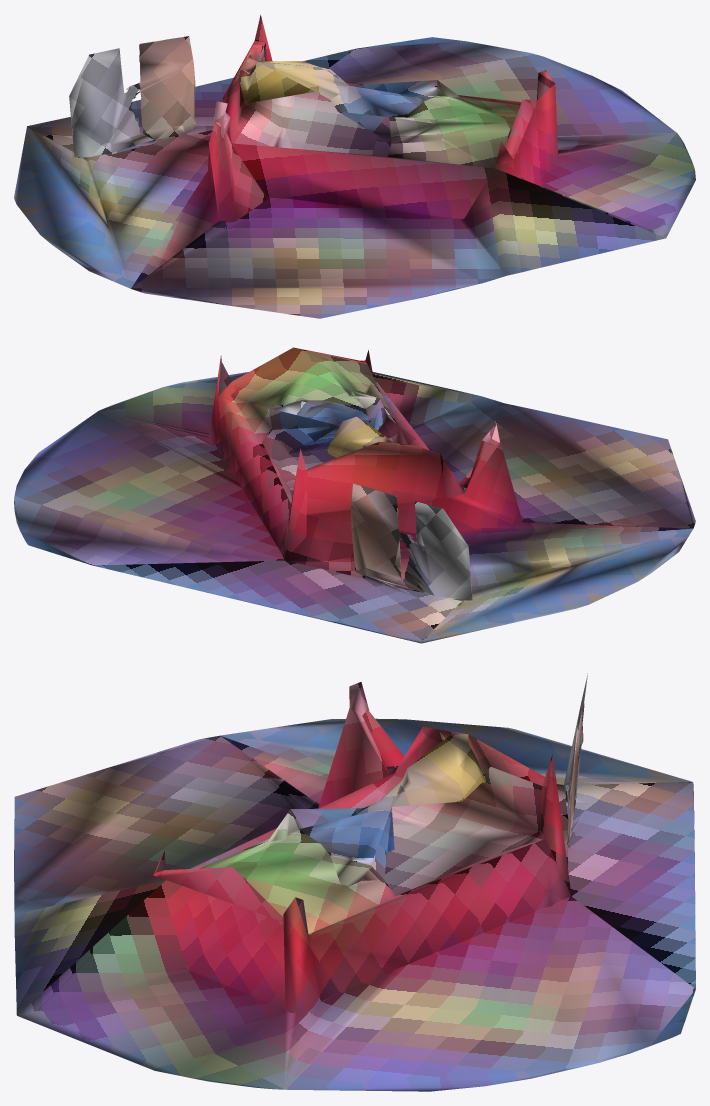
The model's file is Hasbro_Dont_Wake_Daddy_Board_Game_NJnjGna4u1a-low.glb.
3 views of the same model, one above another, from view 1: azimuth 30°, elevation 25°; view 2: azimuth 150°, elevation 25°; view 3: azimuth 270°, elevation 25° (orthographic). The views are drawn at different scales.
Visible parts, largest first — view 1: Hasbro_Dont_Wake_Daddy_Board_Game_NJnjGna4u1a; view 2: Hasbro_Dont_Wake_Daddy_Board_Game_NJnjGna4u1a; view 3: Hasbro_Dont_Wake_Daddy_Board_Game_NJnjGna4u1a.
Part boxes in pixels (left/top/right/bottom): Hasbro_Dont_Wake_Daddy_Board_Game_NJnjGna4u1a: left=14, top=15, right=695, bottom=318; Hasbro_Dont_Wake_Daddy_Board_Game_NJnjGna4u1a: left=14, top=347, right=695, bottom=643; Hasbro_Dont_Wake_Daddy_Board_Game_NJnjGna4u1a: left=14, top=673, right=695, bottom=1091.
Bounding box in the file's own units: 0.4975 × 0.0943 × 0.3943.
Materials: 1 (1 with a texture image).
